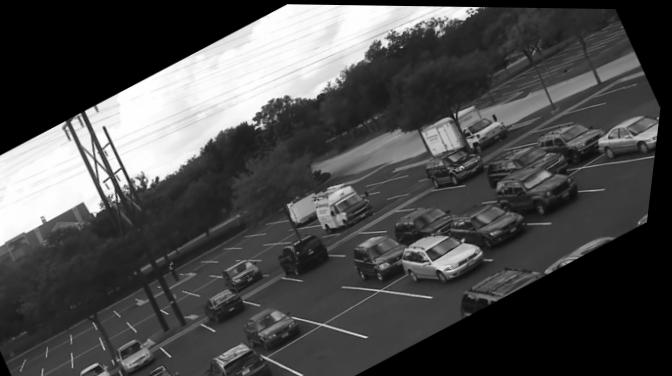empty: (343, 285, 439, 332), (278, 325, 361, 368), (573, 158, 655, 190), (299, 281, 367, 318), (167, 319, 226, 359), (196, 340, 238, 373), (367, 205, 419, 230), (254, 277, 305, 302), (570, 86, 622, 110), (409, 185, 465, 205), (337, 225, 380, 249), (81, 341, 115, 370), (545, 106, 593, 126), (137, 310, 178, 332), (511, 125, 555, 145), (169, 292, 210, 313), (110, 326, 145, 350), (158, 287, 195, 308), (108, 317, 139, 341), (258, 241, 296, 260), (362, 175, 407, 191), (460, 186, 501, 203), (52, 348, 81, 372), (80, 331, 109, 355), (98, 308, 130, 329), (133, 303, 166, 323), (186, 271, 220, 290), (52, 357, 84, 376), (198, 275, 230, 294), (242, 239, 275, 257), (119, 297, 149, 316), (79, 319, 103, 342), (286, 225, 324, 239), (212, 257, 245, 273), (267, 225, 301, 240), (56, 333, 79, 353), (267, 250, 290, 270), (185, 258, 220, 271), (34, 347, 54, 368), (259, 219, 289, 231), (214, 247, 245, 258), (197, 296, 218, 312), (237, 234, 266, 245), (28, 364, 51, 376), (17, 360, 30, 376), (65, 371, 79, 376)
occupied: (406, 232, 492, 288), (500, 163, 577, 216), (456, 200, 538, 247), (429, 140, 489, 188), (318, 183, 379, 230), (491, 142, 561, 181), (601, 112, 662, 156), (253, 306, 313, 350), (215, 341, 290, 376), (542, 121, 605, 161), (284, 232, 339, 276), (359, 234, 411, 280), (398, 203, 459, 242), (210, 287, 254, 323), (228, 258, 269, 291), (125, 339, 164, 373), (89, 362, 120, 376), (155, 366, 182, 376)
